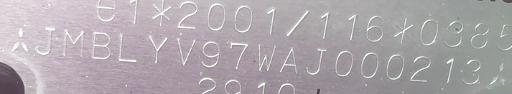letter: (60, 27, 88, 57), (146, 32, 172, 64), (116, 30, 140, 64), (254, 41, 278, 73), (408, 52, 432, 83), (304, 44, 326, 77), (34, 24, 56, 56), (174, 35, 196, 67), (278, 46, 302, 75), (333, 47, 355, 78), (359, 50, 381, 81), (384, 51, 406, 82), (90, 30, 112, 60), (228, 40, 250, 70), (459, 56, 481, 85), (200, 39, 222, 67), (442, 55, 454, 84)
